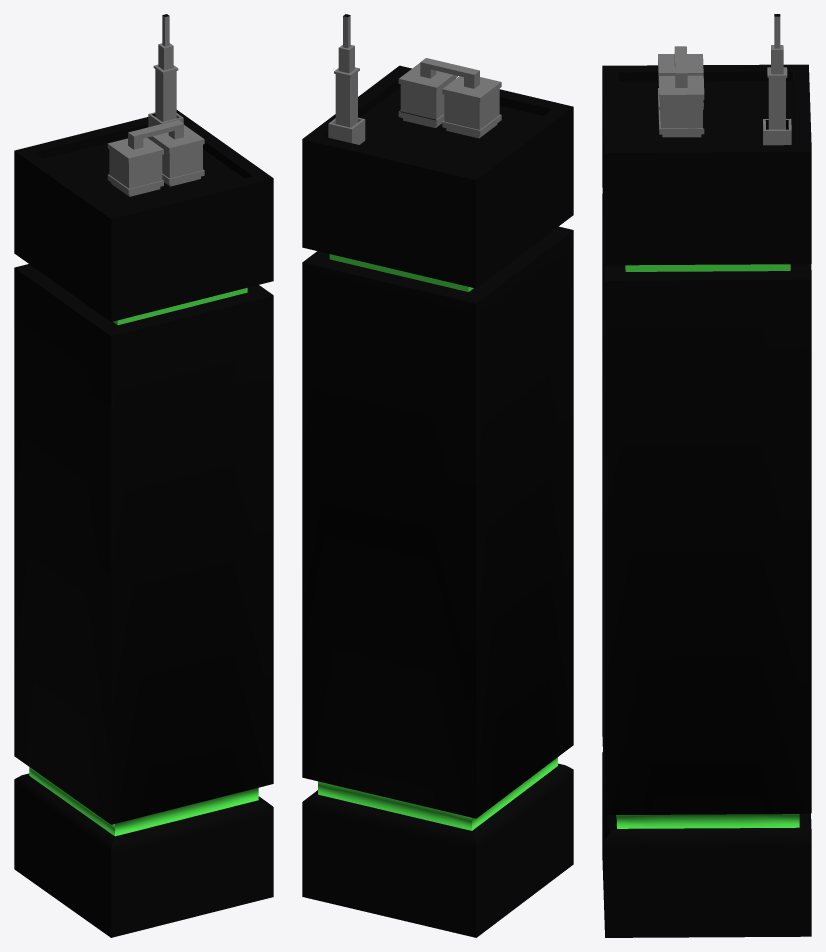
Rendered from PredioFino.fbx.
3 renders of one model, left to right at view 1: azimuth 30°, elevation 25°; view 2: azimuth 150°, elevation 25°; view 3: azimuth 270°, elevation 25°, orthographic. The views are drawn at different scales.
Visible parts, largest first — view 1: PredioFino; view 2: PredioFino; view 3: PredioFino.
Part boxes in pixels (bbox=[...]): PredioFino: bbox=[14, 14, 273, 937]; PredioFino: bbox=[302, 14, 573, 937]; PredioFino: bbox=[602, 14, 811, 937].
Size of the model in its own units: 150 by 718 by 150.
